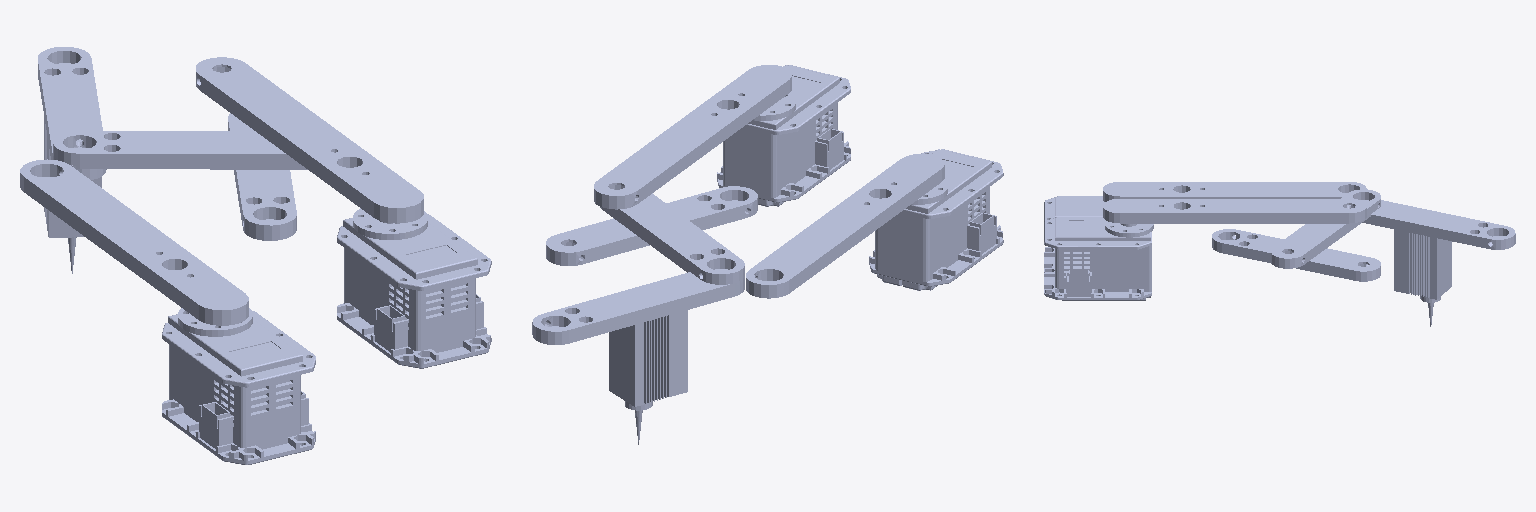
robot.urdf — manipulador:
<?xml version="1.0" encoding="utf-8"?>
<!-- This URDF was automatically created by SolidWorks to URDF Exporter! Originally created by [author] ([email redacted]) 
     Commit Version: 1.6.0-4-g7f85cfe  Build Version: 1.6.7995.38578
     For more information, please see http://wiki.ros.org/sw_urdf_exporter -->
<robot
  name="manipulador">
  <link
    name="base_link">
    <inertial>
      <origin
        xyz="0.0375 0.02573 -0.0032613"
        rpy="0 0 0" />
      <mass
        value="0.12459" />
      <inertia
        ixx="4.8498E-05"
        ixy="8.6614E-11"
        ixz="-3.7741E-13"
        iyy="4.0441E-05"
        iyz="1.0139E-06"
        izz="2.6601E-05" />
    </inertial>
    <visual>
      <origin
        xyz="0 0 0"
        rpy="0 0 0" />
      <geometry>
        <mesh
          filename="package://manipulador/meshes/base_link.STL" />
      </geometry>
      <material
        name="">
        <color
          rgba="0.79216 0.81961 0.93333 1" />
      </material>
    </visual>
    <collision>
      <origin
        xyz="0 0 0"
        rpy="0 0 0" />
      <geometry>
        <mesh
          filename="package://manipulador/meshes/base_link.STL" />
      </geometry>
    </collision>
  </link>
  
  <gazebo reference="base_link">
    <material>Gazebo/Grey</material>
    <!-- Agregar otras propiedades específicas de Gazebo aquí -->
</gazebo>
  <link
    name="Link1">
    <inertial>
      <origin
        xyz="-1.1752E-05 -0.0018106 0.0031623"
        rpy="0 0 0" />
      <mass
        value="0.017167" />
      <inertia
        ixx="2.9113E-05"
        ixy="1.4143E-08"
        ixz="2.6924E-12"
        iyy="6.4633E-07"
        iyz="1.4536E-08"
        izz="2.9643E-05" />
    </inertial>
    <visual>
      <origin
        xyz="0 0 0"
        rpy="0 0 0" />
      <geometry>
        <mesh
          filename="package://manipulador/meshes/Link1.STL" />
      </geometry>
      <material
        name="">
        <color
          rgba="0.79216 0.81961 0.93333 1" />
      </material>
    </visual>
    <collision>
      <origin
        xyz="0 0 0"
        rpy="0 0 0" />
      <geometry>
        <mesh
          filename="package://manipulador/meshes/Link1.STL" />
      </geometry>
    </collision>
  </link>
  
   <gazebo reference="Link1">
    <material>Gazebo/Grey</material>
    <mu1>0.5</mu1> <!-- Coeficiente de fricción en una dirección -->
    <mu2>0.5</mu2> <!-- Coeficiente de fricción en la otra dirección -->

   </gazebo>

  <joint
    name="Joint1"
    type="revolute">
    <origin
      xyz="0 0.04755 0.04365"
      rpy="-3.1416 0 3.1416" />
    <parent
      link="base_link" />
    <child
      link="Link1" />
    <axis
      xyz="0 0 1" />
    <limit
      lower="-2.0"
      upper="2.0"
      effort="100"
      velocity="1.5" />
    <dynamics
      damping="0.1"
      friction="0.1" />
  </joint>
  
 <gazebo reference="Joint1">
    <limit>
        <effort>30</effort>
        <velocity>1.0</velocity>
    </limit>
    <PID>
        <p>1000.0</p>
        <i>0</i>
        <d>100.0</d>
    </PID>
</gazebo>
  <link
    name="Link1a">
    <inertial>
      <origin
        xyz="-3.842E-05 -0.00096496 0.003162"
        rpy="0 0 0" />
      <mass
        value="0.011022" />
      <inertia
        ixx="7.9873E-06"
        ixy="4.0866E-10"
        ixz="5.4898E-12"
        iyy="4.2131E-07"
        iyz="2.9516E-08"
        izz="8.3325E-06" />
    </inertial>
    <visual>
      <origin
        xyz="0 0 0"
        rpy="0 0 0" />
      <geometry>
        <mesh
          filename="package://manipulador/meshes/Link1a.STL" />
      </geometry>
      <material
        name="">
        <color
          rgba="0.79216 0.81961 0.93333 1" />
      </material>
    </visual>
    <collision>
      <origin
        xyz="0 0 0"
        rpy="0 0 0" />
      <geometry>
        <mesh
          filename="package://manipulador/meshes/Link1a.STL" />
      </geometry>
    </collision>
  </link>
  
   <gazebo reference="Link1a">
    <material>Gazebo/Grey</material>
    <mu1>0.5</mu1> <!-- Coeficiente de fricción en una dirección -->
    <mu2>0.5</mu2> <!-- Coeficiente de fricción en la otra dirección -->
</gazebo>

  <joint
    name="Joint1a"
    type="revolute">
    <origin
      xyz="-0.018749 0.10314 -0.001"
      rpy="3.1416 0 -2.6847" />
    <parent
      link="Link1" />
    <child
      link="Link1a" />
    <axis
      xyz="0 0 1" />
    <limit
      lower="2.0"
      upper="0.0"
      effort="100"
      velocity="100" />
    <dynamics
      damping="0.1"
      friction="0.1" />
  </joint>
  
 <gazebo reference="Joint1a">
    <limit>
        <effort>30</effort>
        <velocity>1.0</velocity>
    </limit>
    <PID>
        <p>1000.0</p>
        <i>0</i>
        <d>100.0</d>
    </PID>
</gazebo>
  <link
    name="EF">
    <inertial>
      <origin
        xyz="6.9389E-18 0.0016625 0.023737"
        rpy="0 0 0" />
      <mass
        value="0.018703" />
      <inertia
        ixx="4.4249E-06"
        ixy="5.294E-22"
        ixz="-7.5434E-22"
        iyy="3.8509E-06"
        iyz="-5.4862E-08"
        izz="1.7924E-06" />
    </inertial>
    <visual>
      <origin
        xyz="0 0 0"
        rpy="0 0 0" />
      <geometry>
        <mesh
          filename="package://manipulador/meshes/EF.STL" />
      </geometry>
      <material
        name="">
        <color
          rgba="0.79216 0.81961 0.93333 1" />
      </material>
    </visual>
    <collision>
      <origin
        xyz="0 0 0"
        rpy="0 0 0" />
      <geometry>
        <mesh
          filename="package://manipulador/meshes/EF.STL" />
      </geometry>
    </collision>
  </link>
   <gazebo reference="EF">
    <material>Gazebo/Grey</material>
    <mu1>0.5</mu1> <!-- Coeficiente de fricción en una dirección -->
    <mu2>0.5</mu2> <!-- Coeficiente de fricción en la otra dirección -->
</gazebo>
  <joint
    name="JEF"
    type="fixed">
    <origin
      xyz="0 0.0375 0"
      rpy="3.1416 0 -3.1416" />
    <parent
      link="Link1a" />
    <child
      link="EF" />
    <axis
      xyz="0 0 0" />
    <dynamics
      damping="0.1"
      friction="0.1" />
  </joint>
  
 <gazebo reference="JEF">
    <limit>
        <effort>30</effort>
        <velocity>1.0</velocity>
    </limit>
    <PID>
        <p>1000.0</p>
        <i>0</i>
        <d>100.0</d>
    </PID>
</gazebo>
  <link
    name="Link2">
    <inertial>
      <origin
        xyz="-1.2329E-05 -0.0018106 0.0031623"
        rpy="0 0 0" />
      <mass
        value="0.017167" />
      <inertia
        ixx="2.9113E-05"
        ixy="1.4143E-08"
        ixz="2.6924E-12"
        iyy="6.4633E-07"
        iyz="1.4536E-08"
        izz="2.9643E-05" />
    </inertial>
    <visual>
      <origin
        xyz="0 0 0"
        rpy="0 0 0" />
      <geometry>
        <mesh
          filename="package://manipulador/meshes/Link2.STL" />
      </geometry>
      <material
        name="">
        <color
          rgba="0.79216 0.81961 0.93333 1" />
      </material>
    </visual>
    <collision>
      <origin
        xyz="0 0 0"
        rpy="0 0 0" />
      <geometry>
        <mesh
          filename="package://manipulador/meshes/Link2.STL" />
      </geometry>
    </collision>
  </link>
  
    <gazebo reference="Link2">
    <material>Gazebo/Grey</material>
    <mu1>0.5</mu1> <!-- Coeficiente de fricción en una dirección -->
    <mu2>0.5</mu2> <!-- Coeficiente de fricción en la otra dirección -->
</gazebo>
  <joint
    name="Joint2"
    type="revolute">
    <origin
      xyz="0.074999 0.04755 0.0657"
      rpy="-3.1416 0 3.1416" />
    <parent
      link="base_link" />
    <child
      link="Link2" />
    <axis
      xyz="0 0 1" />
    <limit
      lower="2.0"
      upper="-2.0"
      effort="100"
      velocity="0.5" />
    <dynamics
      damping="0.1"
      friction="0.1" />
  </joint>
  
 <gazebo reference="Joint2">
    <limit>
        <effort>30</effort>
        <velocity>1.0</velocity>
    </limit>
    <PID>
        <p>1000.0</p>
        <i>0</i>
        <d>100.0</d>
    </PID>
</gazebo>
  <link
    name="Link2a">
    <inertial>
      <origin
        xyz="-3.842E-05 -0.00096496 0.003162"
        rpy="0 0 0" />
      <mass
        value="0.011022" />
      <inertia
        ixx="7.9873E-06"
        ixy="4.0866E-10"
        ixz="5.4898E-12"
        iyy="4.2131E-07"
        iyz="2.9516E-08"
        izz="8.3325E-06" />
    </inertial>
    <visual>
      <origin
        xyz="0 0 0"
        rpy="0 0 0" />
      <geometry>
        <mesh
          filename="package://manipulador/meshes/Link2a.STL" />
      </geometry>
      <material
        name="">
        <color
          rgba="0.79216 0.81961 0.93333 1" />
      </material>
    </visual>
    <collision>
      <origin
        xyz="0 0 0"
        rpy="0 0 0" />
      <geometry>
        <mesh
          filename="package://manipulador/meshes/Link2a.STL" />
      </geometry>
    </collision>
  </link>
  
     <gazebo reference="Link2a">
    <material>Gazebo/Grey</material>
    <mu1>0.5</mu1> <!-- Coeficiente de fricción en una dirección -->
    <mu2>0.5</mu2> <!-- Coeficiente de fricción en la otra dirección -->
</gazebo>
  <joint
    name="Joint2a"
    type="revolute">
    <origin
      xyz="0.05625 0.10314 0.02105"
      rpy="3.1416 0 -2.6847" />
    <parent
      link="Link2" />
    <child
      link="Link2a" />
    <axis
      xyz="0 0 1" />
    <limit
      lower="-2.0"
      upper="2.0"
      effort="100"
      velocity="1.5" />
    <dynamics
      damping="0.1"
      friction="0.1" />
  </joint>
  
 <gazebo reference="Joint2a">
    <limit>
        <effort>30</effort>
        <velocity>1.0</velocity>
    </limit>
    <PID>
        <p>1000.0</p>
        <i>0</i>
        <d>100.0</d>
    </PID>
</gazebo>
  <link
    name="Link12a">
    <inertial>
      <origin
        xyz="-3.842E-05 -0.00096496 0.003162"
        rpy="0 0 0" />
      <mass
        value="0.011022" />
      <inertia
        ixx="7.9873E-06"
        ixy="4.0866E-10"
        ixz="5.4898E-12"
        iyy="4.2131E-07"
        iyz="2.9516E-08"
        izz="8.3325E-06" />
    </inertial>
    <visual>
      <origin
        xyz="0 0 0"
        rpy="0 0 0" />
      <geometry>
        <mesh
          filename="package://manipulador/meshes/Link12a.STL" />
      </geometry>
      <material
        name="">
        <color
          rgba="0.79216 0.81961 0.93333 1" />
      </material>
    </visual>
    <collision>
      <origin
        xyz="0 0 0"
        rpy="0 0 0" />
      <geometry>
        <mesh
          filename="package://manipulador/meshes/Link12a.STL" />
      </geometry>
    </collision>
  </link>
     <gazebo reference="Link12a">
    <material>Gazebo/Grey</material>
    <mu1>0.5</mu1> <!-- Coeficiente de fricción en una dirección -->
    <mu2>0.5</mu2> <!-- Coeficiente de fricción en la otra dirección -->
</gazebo>
  <joint
    name="Joint12a"
    type="revolute">
    <origin
      xyz="0 0 0"
      rpy="0 0 0" />
    <parent
      link="Link2a" />
    <child
      link="Link12a" />
    <axis
      xyz="0 0 1" />
    <limit
      lower="2.0"
      upper="1.0"
      effort="100"
      velocity="0.1" />
    <dynamics
      damping="0.1"
      friction="0.1" />
  </joint>
  <gazebo reference="Joint12a">
    <limit>
        <effort>30</effort>
        <velocity>1.0</velocity>
    </limit>
    <PID>
        <p>1000.0</p>
        <i>0</i>
        <d>100.0</d>
    </PID>
</gazebo>


<!-- Verificar plugins, adicional se añadieron los parámetros de los límites.-->
<gazebo>
 
 
<plugin name="gazebo_ros_control" filename="libgazebo_ros_control.so">
    <robotNamespace>/</robotNamespace>
  </plugin>
</gazebo>

</robot>

--- What the picture shows (computed from the rendered views, not written in the file) ---
The picture shows the robot from 3 angles, left to right: view 1: azimuth 30°, elevation 25°; view 2: azimuth 150°, elevation 25°; view 3: azimuth 270°, elevation 25°; orthographic projection.
Model manipulador with 7 links and 6 joints (5 revolute, 1 fixed), rooted at base_link, posed all joints at 0 but 1 set to mid-range because 0 is outside their limits (Joint12a = 1.5).
Visible links, largest first — view 1: base_link, Link1, Link2, Link12a, Link1a, Link2a, EF; view 2: base_link, Link1, Link2, EF, Link1a, Link2a, Link12a; view 3: base_link, Link2, Link1, EF, Link1a, Link2a, Link12a.
Link boxes in pixels (x1=…): base_link: x1=162, y1=208, x2=491, y2=464; Link1: x1=20, y1=159, x2=248, y2=325; Link2: x1=196, y1=57, x2=423, y2=223; Link12a: x1=53, y1=131, x2=307, y2=169; Link1a: x1=38, y1=47, x2=106, y2=179; Link2a: x1=228, y1=113, x2=296, y2=240; EF: x1=44, y1=111, x2=101, y2=273; base_link: x1=717, y1=65, x2=1003, y2=290; Link1: x1=746, y1=154, x2=944, y2=298; Link2: x1=594, y1=65, x2=791, y2=209; EF: x1=609, y1=280, x2=687, y2=444; Link1a: x1=532, y1=269, x2=744, y2=344; Link2a: x1=546, y1=186, x2=757, y2=265; Link12a: x1=600, y1=193, x2=744, y2=284; base_link: x1=1044, y1=196, x2=1153, y2=300; Link2: x1=1103, y1=199, x2=1366, y2=223; Link1: x1=1103, y1=182, x2=1366, y2=201; EF: x1=1394, y1=206, x2=1451, y2=326; Link1a: x1=1361, y1=200, x2=1515, y2=249; Link2a: x1=1212, y1=229, x2=1380, y2=281; Link12a: x1=1271, y1=189, x2=1380, y2=268.
Bounding box of the posed robot: 0.1237 × 0.2674 × 0.0954 m (x, y, z).
Meshes: 7 distinct files referenced, 7 mesh visuals loaded (7 binary STL).
